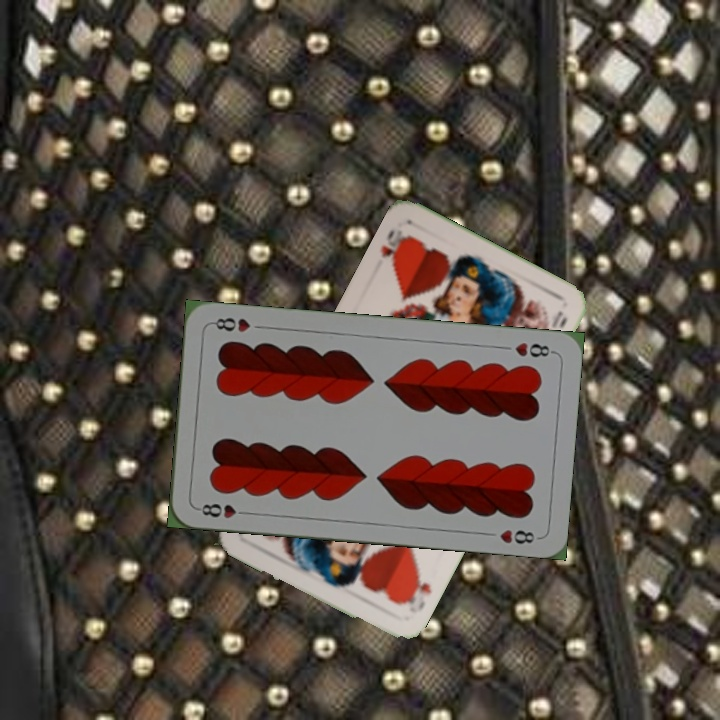H8: (193, 499, 252, 521), (511, 338, 557, 360)
HO: (397, 564, 435, 616), (376, 224, 412, 269)
